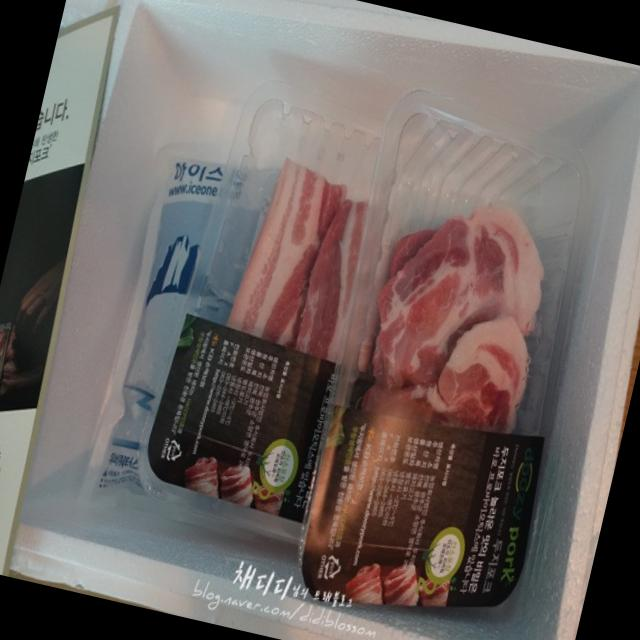pork: (132, 74, 614, 640)
